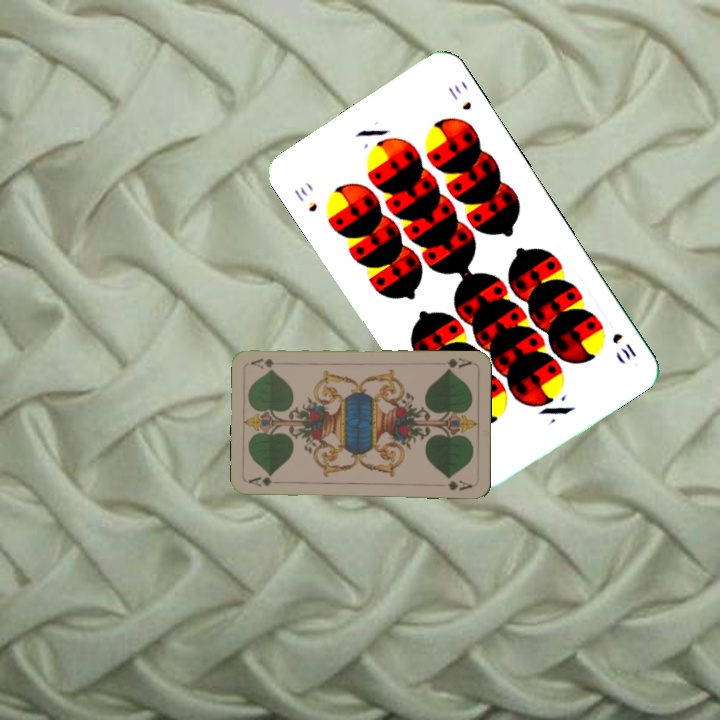GA: (435, 354, 474, 373), (245, 473, 286, 489)
S10: (608, 329, 639, 363), (290, 182, 320, 215)
